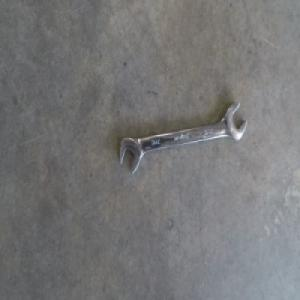Wrench: (116, 102, 244, 173)
